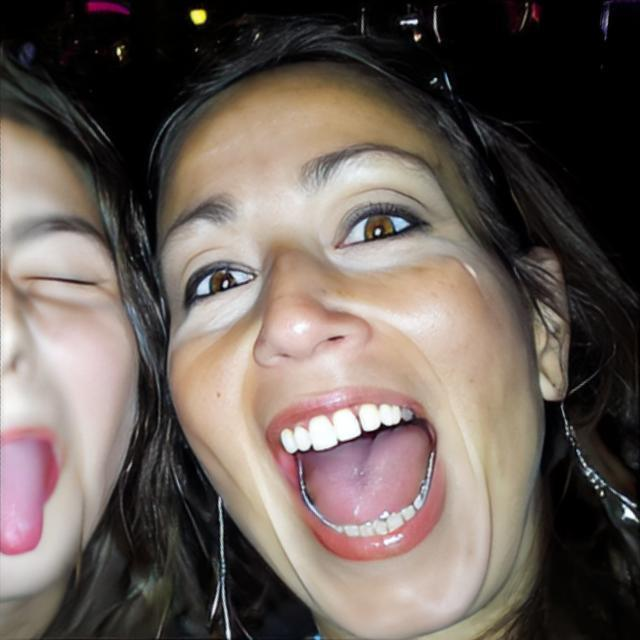happy: (0, 105, 138, 600)
surprise: (154, 57, 546, 638)
